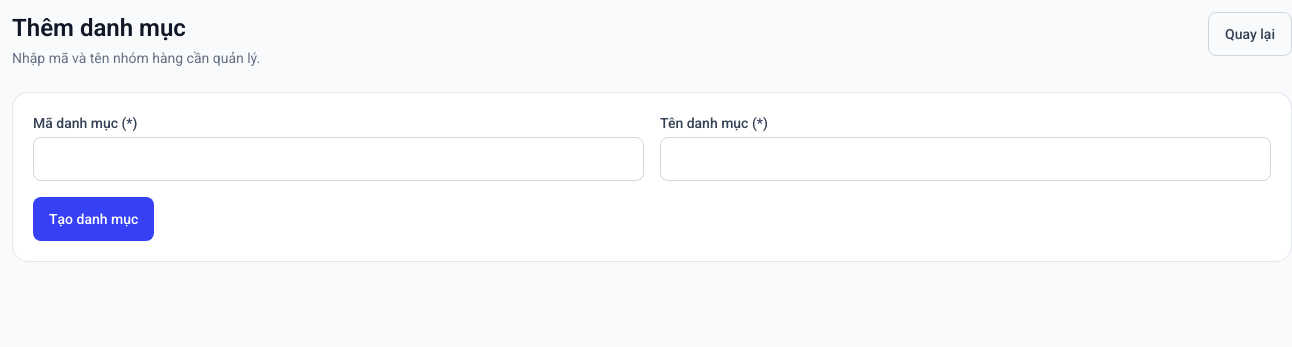
Scenario: CatalogPage › creates a category from a dedicated form screen
The image size is (1292, 347).
Type "DRY" into the field labelled "Mã danh mục (*)" at (338, 159), box [33, 137, 644, 181]
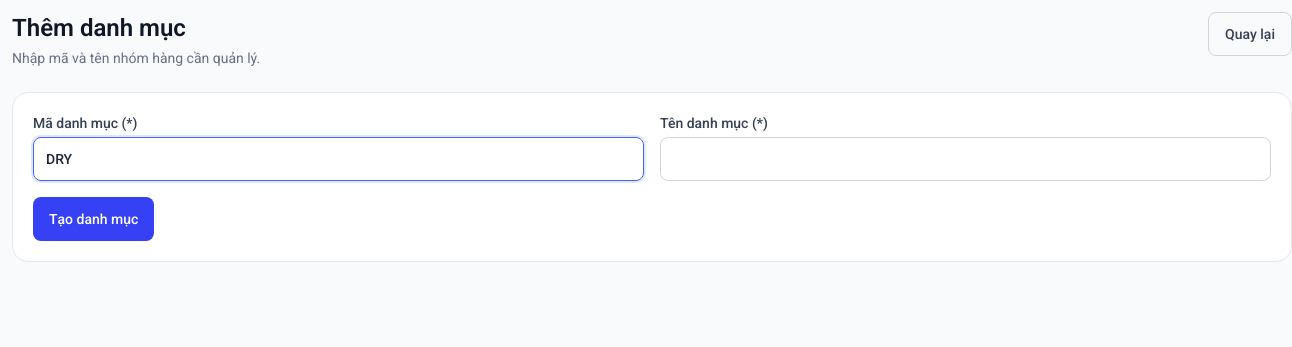
Type "Hàng khô" into the field labelled "Tên danh mục (*)" at (966, 159), box [660, 137, 1271, 181]
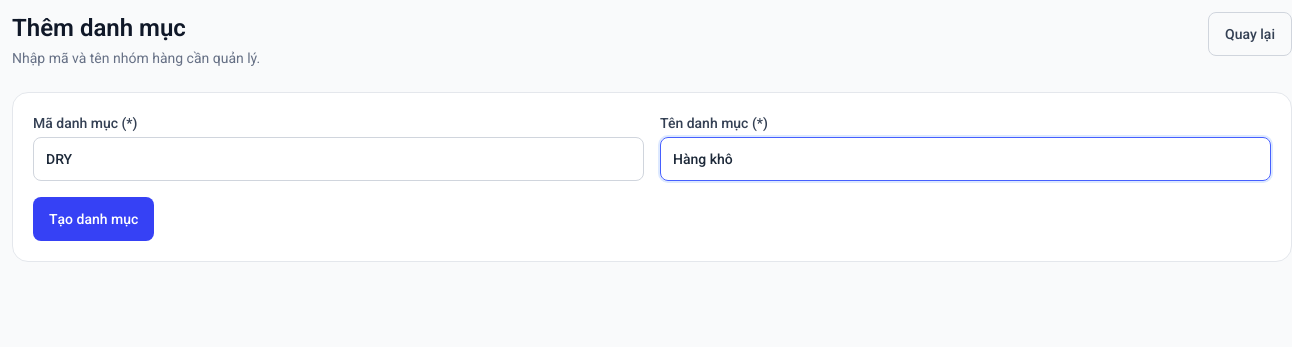
Click the button "Tạo danh mục" at (94, 219), box [33, 197, 154, 241]
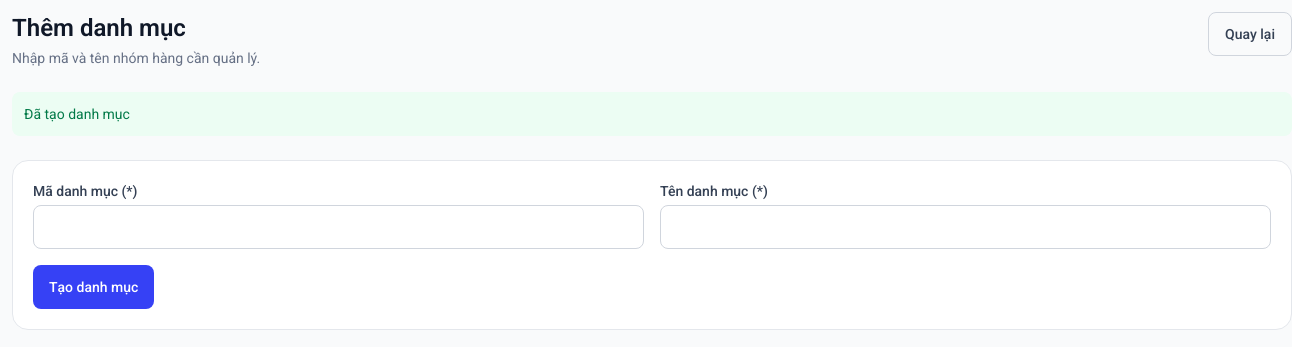
expect the text "Đã tạo danh mục" is shown: met, box [12, 92, 1291, 136]
